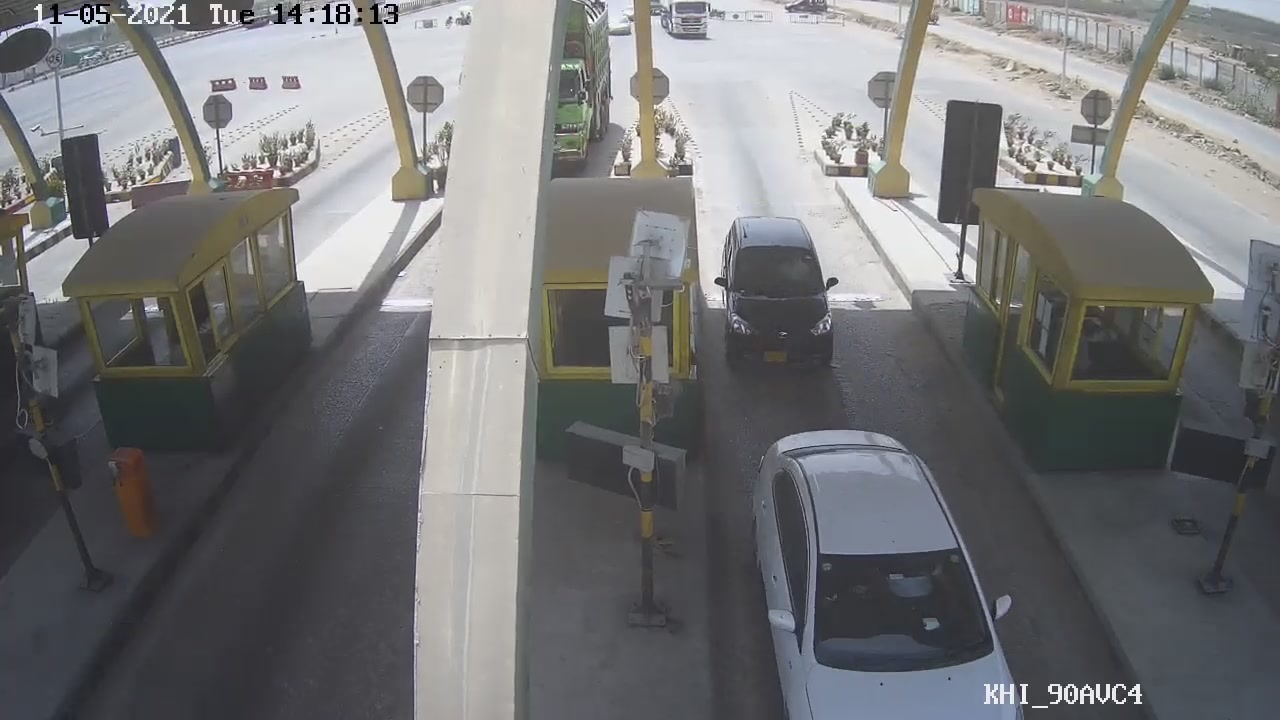F1: (704, 211, 856, 375)
